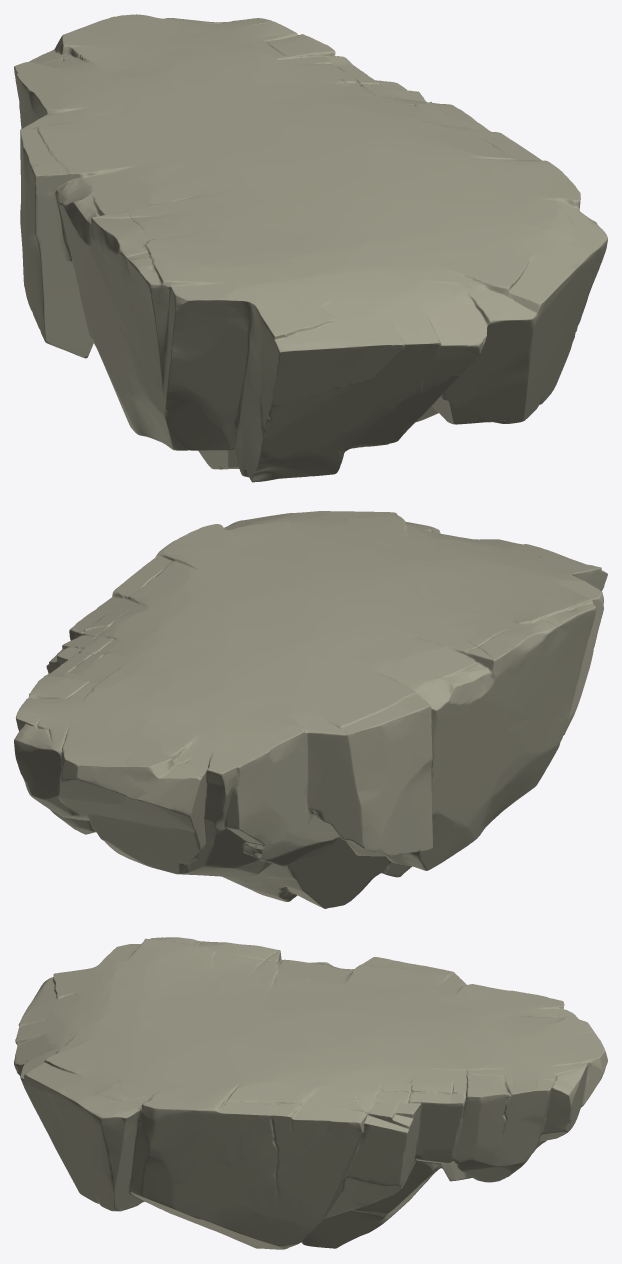
3 renders of one model, top to bottom at view 1: azimuth 30°, elevation 25°; view 2: azimuth 150°, elevation 25°; view 3: azimuth 270°, elevation 25°, orthographic. The views are drawn at different scales.
Visible parts, largest first — view 1: SM_BM_Cliff_Overhang_01_LOD0; view 2: SM_BM_Cliff_Overhang_01_LOD0; view 3: SM_BM_Cliff_Overhang_01_LOD0.
Part boxes in pixels (bbox=[...]): SM_BM_Cliff_Overhang_01_LOD0: bbox=[14, 14, 607, 482]; SM_BM_Cliff_Overhang_01_LOD0: bbox=[14, 511, 607, 908]; SM_BM_Cliff_Overhang_01_LOD0: bbox=[14, 937, 607, 1249].
Size of the model in its own units: 35.51 by 22.27 by 55.05.
